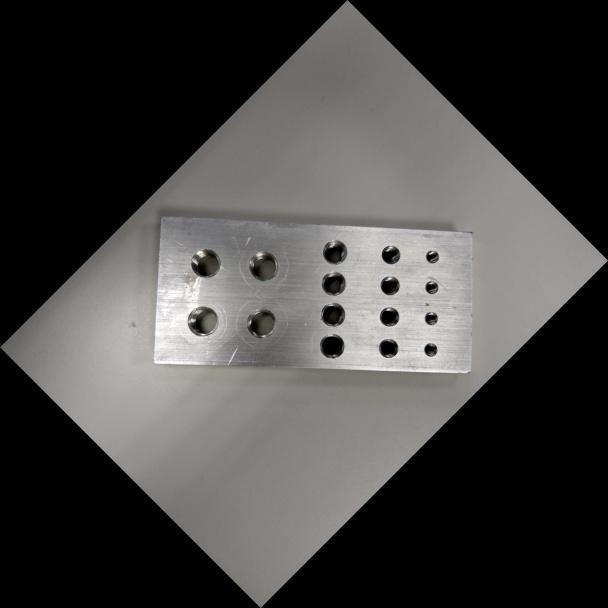hole: (179, 298, 225, 344), (183, 240, 228, 286), (241, 243, 286, 288), (239, 300, 284, 345), (316, 233, 353, 270), (314, 296, 351, 333), (313, 327, 350, 364), (315, 265, 351, 302), (374, 301, 404, 331), (373, 333, 403, 363), (376, 240, 405, 269), (375, 271, 404, 300), (420, 307, 442, 329), (421, 277, 442, 298), (420, 339, 441, 360), (422, 246, 442, 267)
